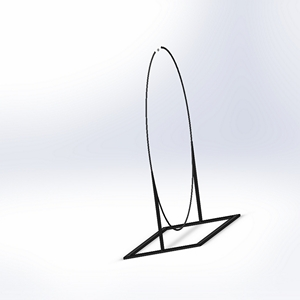circle: (118, 44, 243, 259)
